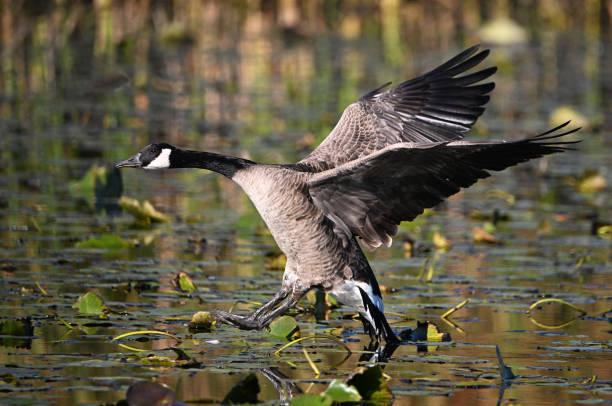Canadian-Goose: (114, 41, 575, 372)
